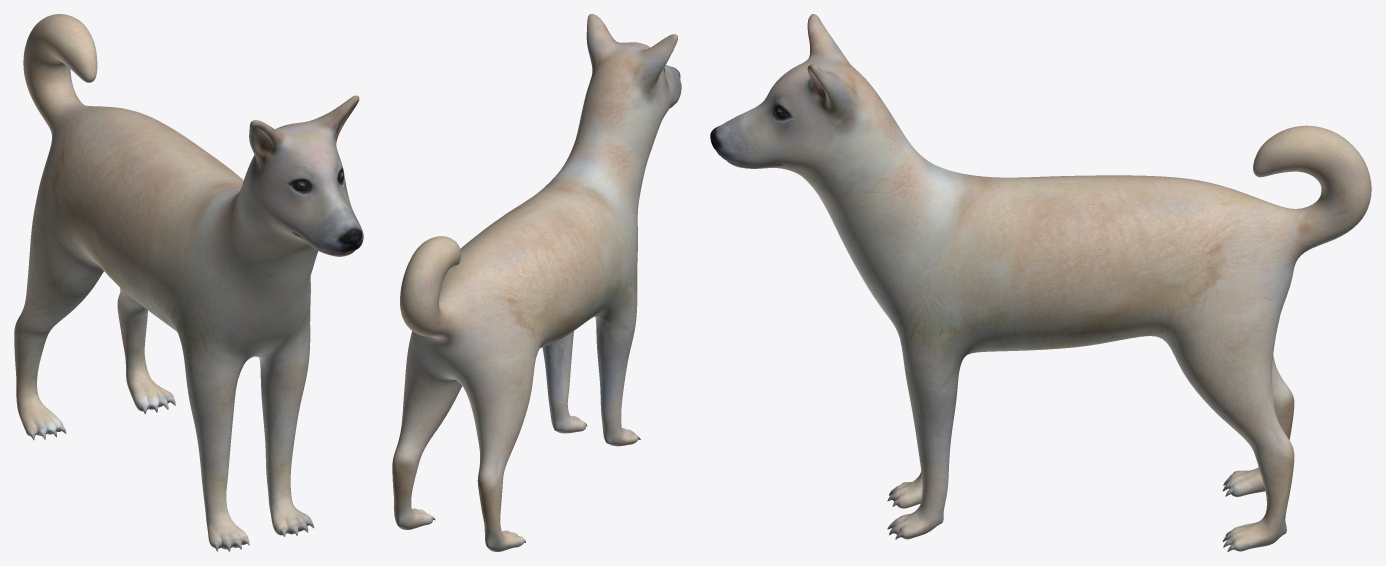
The model's file is anjing.gltf.
The picture shows the model from 3 angles, left to right: view 1: azimuth 30°, elevation 25°; view 2: azimuth 150°, elevation 25°; view 3: azimuth 270°, elevation 25°; orthographic projection. The views are drawn at different scales.
Parts seen in each view (by area): view 1: 13466_Canaan_Dog_v1_L3; view 2: 13466_Canaan_Dog_v1_L3; view 3: 13466_Canaan_Dog_v1_L3.
Boxes of the visible parts, box(x1,y1,x2,y2) form: 13466_Canaan_Dog_v1_L3: box(14, 14, 363, 551); 13466_Canaan_Dog_v1_L3: box(392, 14, 681, 551); 13466_Canaan_Dog_v1_L3: box(710, 14, 1371, 551).
Size of the model in its own units: 0.495 by 1.5 by 1.88.
1 material, 1 textured.
